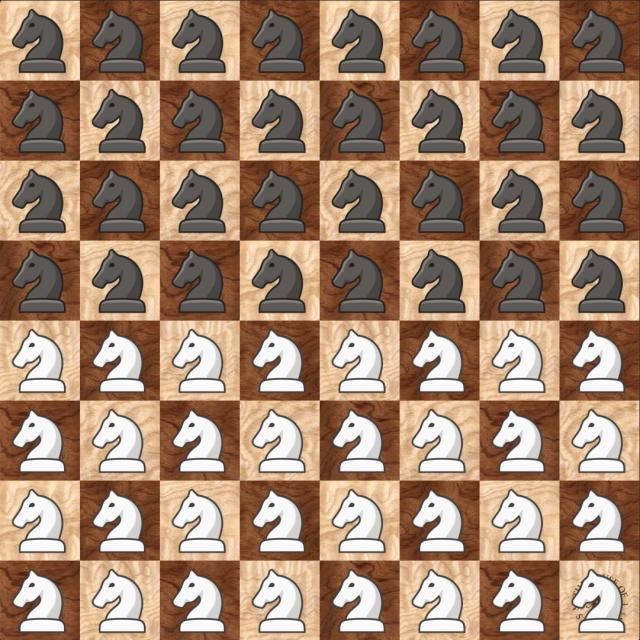black-knight: (571, 248, 626, 313), (571, 169, 626, 234), (491, 248, 546, 313), (491, 169, 546, 234), (491, 89, 546, 154), (571, 89, 626, 154), (571, 8, 626, 73), (491, 9, 546, 74), (411, 9, 466, 74), (411, 169, 466, 234), (411, 248, 466, 313), (331, 249, 386, 314), (331, 169, 386, 234), (331, 9, 386, 74), (251, 8, 306, 73), (251, 169, 306, 234), (251, 249, 306, 314), (171, 248, 226, 313), (91, 248, 146, 313), (12, 249, 67, 314), (11, 169, 66, 234), (92, 169, 147, 234), (171, 169, 226, 234), (172, 89, 227, 154), (171, 8, 226, 73), (92, 89, 147, 154), (12, 89, 67, 154), (12, 9, 67, 74), (92, 8, 147, 73), (411, 89, 466, 153), (332, 89, 387, 153), (251, 89, 306, 153)
white-knight: (12, 328, 67, 393), (91, 329, 146, 394), (172, 328, 227, 393), (251, 328, 306, 393), (331, 329, 386, 394), (411, 329, 466, 394), (491, 328, 546, 393), (571, 329, 626, 394), (571, 409, 626, 474), (491, 408, 546, 473), (411, 409, 466, 474), (331, 409, 386, 474), (251, 409, 306, 474), (171, 409, 226, 474), (91, 409, 146, 474), (12, 409, 67, 474), (11, 488, 66, 553), (92, 489, 147, 554), (171, 489, 226, 554), (251, 488, 306, 553), (331, 488, 386, 553), (411, 489, 466, 554), (491, 488, 546, 553), (571, 488, 626, 553), (491, 568, 546, 633), (571, 568, 626, 633), (411, 569, 466, 634), (331, 569, 386, 634), (251, 569, 306, 634), (172, 569, 227, 634), (92, 569, 147, 634), (12, 569, 67, 634)
